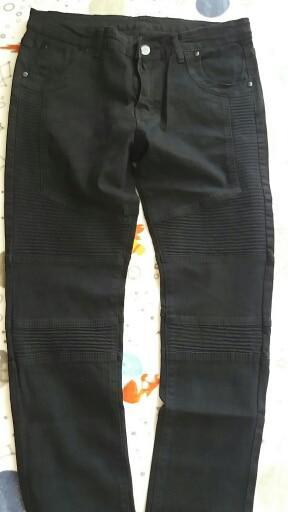jeans: (1, 15, 273, 495)
